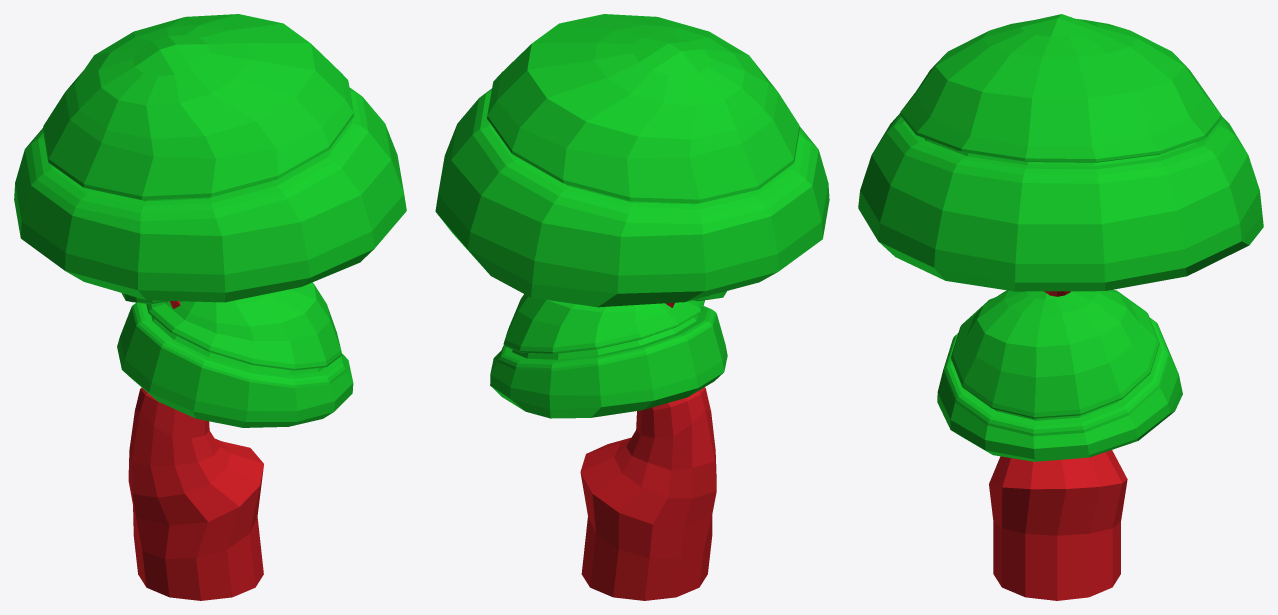
File: arbol_v1 corregido.fbx
3 renders of one model, left to right at view 1: azimuth 30°, elevation 25°; view 2: azimuth 150°, elevation 25°; view 3: azimuth 270°, elevation 25°, orthographic.
Parts seen in each view (by area): view 1: Arbol 1 (×2); view 2: Arbol 1 (×2); view 3: Arbol 1 (×2).
Boxes of the visible parts, x1,y1,x2,y2 form: Arbol 1 (×2): (14, 14, 406, 600); Arbol 1 (×2): (435, 14, 829, 600); Arbol 1 (×2): (858, 14, 1263, 600).
Size of the model in its own units: 137 by 210 by 142.
